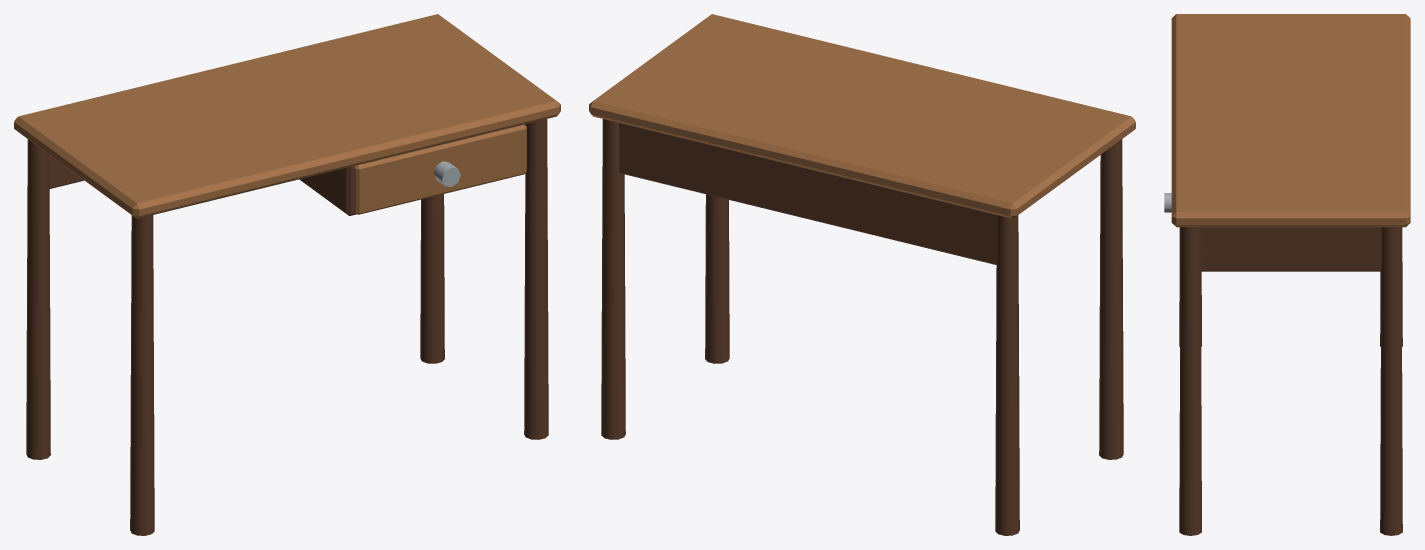
File: desk_small.glb
3 renders of one model, left to right at view 1: azimuth 30°, elevation 25°; view 2: azimuth 150°, elevation 25°; view 3: azimuth 270°, elevation 25°, orthographic. The views are drawn at different scales.
Parts seen in each view (by area): view 1: desk_small; view 2: desk_small; view 3: desk_small.
Boxes of the visible parts, x1,y1,x2,y2 form: desk_small: (14, 14, 560, 535); desk_small: (589, 14, 1135, 535); desk_small: (1164, 14, 1410, 535).
Size of the model in its own units: 1 by 0.75 by 0.515.
